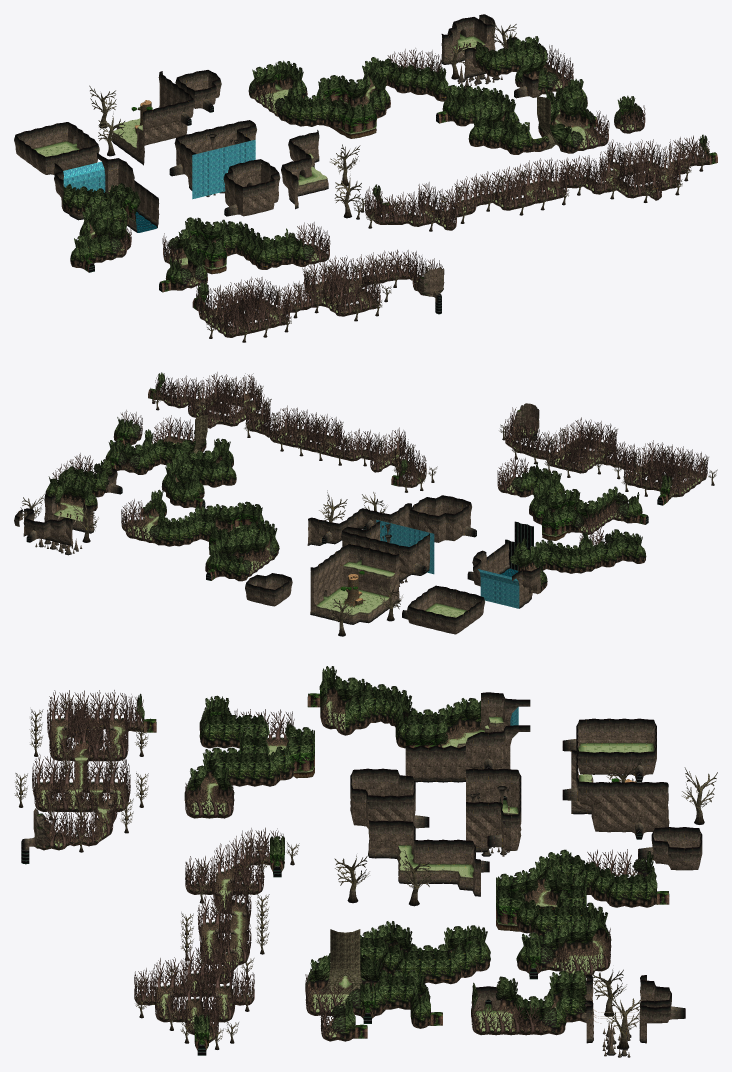
3 renders of one model, top to bottom at view 1: azimuth 30°, elevation 25°; view 2: azimuth 150°, elevation 25°; view 3: azimuth 270°, elevation 25°, orthographic. The views are drawn at different scales.
Visible parts, largest first — view 1: no part large enough to name; view 2: no part large enough to name; view 3: T1L8M005_470, T1L8M005_862.
Boxes of the visible parts, x1,y1,x2,y2 form: T1L8M005_470: (496, 884, 510, 930); T1L8M005_862: (300, 732, 314, 777).
Size of the model in its own units: 225 by 25.81 by 187.
Materials: 1 (1 with a texture image).
